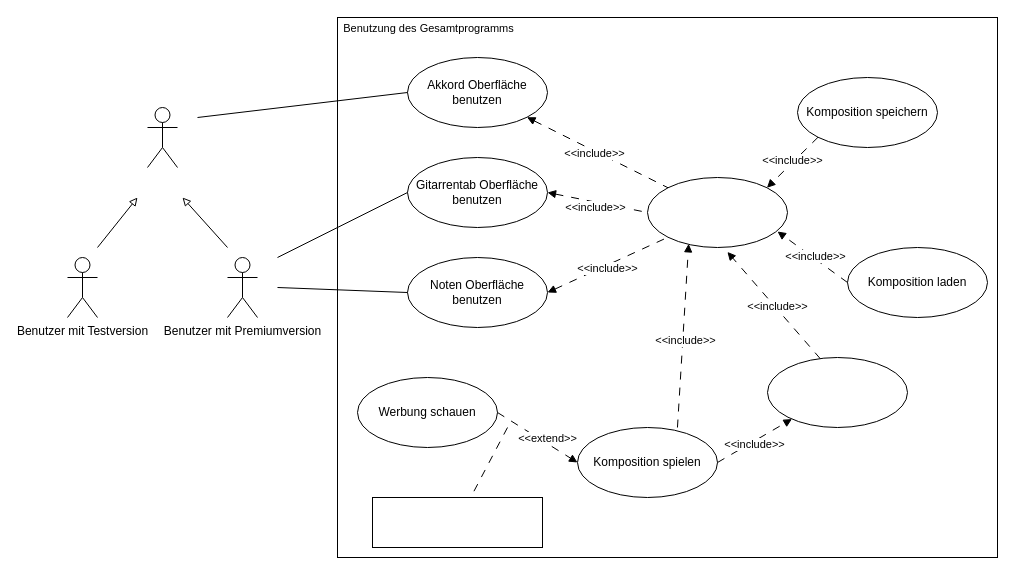
Some shapes in this 1015 by 575 pixel diagram are drawn without their labels. Here are the shapes that lost their labels. From the top down, the centre of each, then its label:
At point 162,137: "Benutzer".
At point 717,212: "Komposition schreiben".
At point 837,392: "Kompilieren".
At point 457,522: "Bedingung: {Benutzer hat Testversion}".
